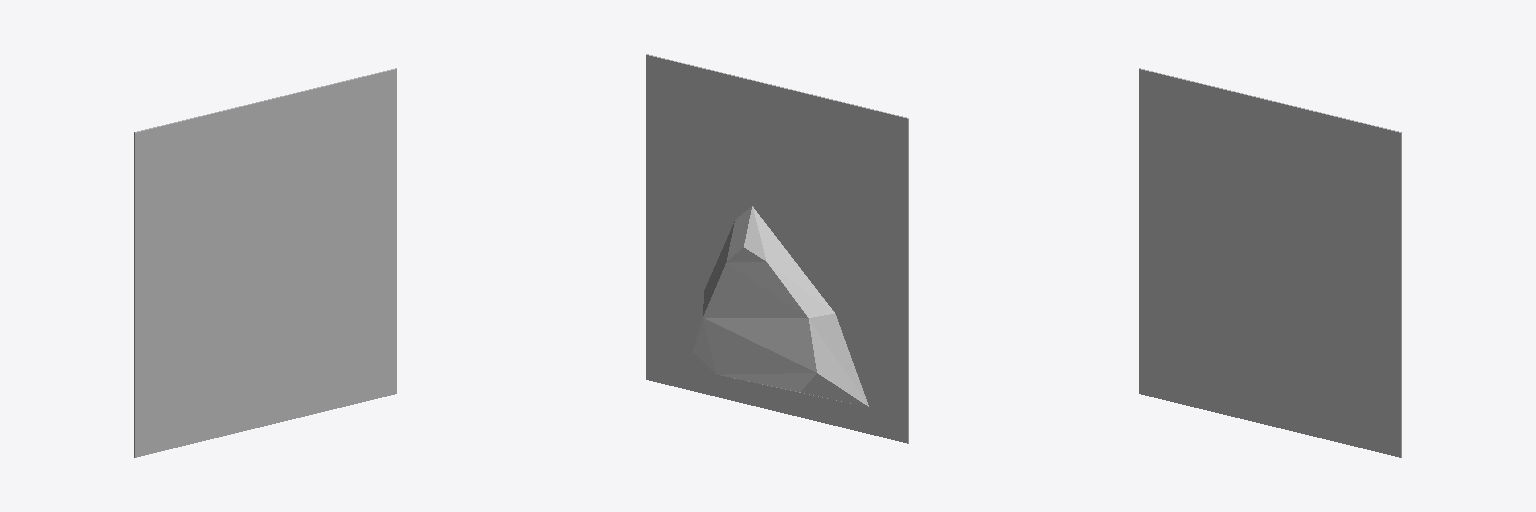
File: sea_chicken.obj
3 renders of one model, left to right at view 1: azimuth 30°, elevation 25°; view 2: azimuth 150°, elevation 25°; view 3: azimuth 330°, elevation 25°, orthographic.
Parts seen in each view (by area): view 1: pack_立方体; view 2: pack_立方体, chken_cheken; view 3: pack_立方体.
Part boxes in pixels (x1,y1,x2,y2): pack_立方体: (134, 68, 396, 457); pack_立方体: (646, 54, 908, 443); chken_cheken: (693, 206, 868, 406); pack_立方体: (1139, 68, 1401, 457).
Bounding box in the file's own units: 1.97 × 2.33 × 0.263.